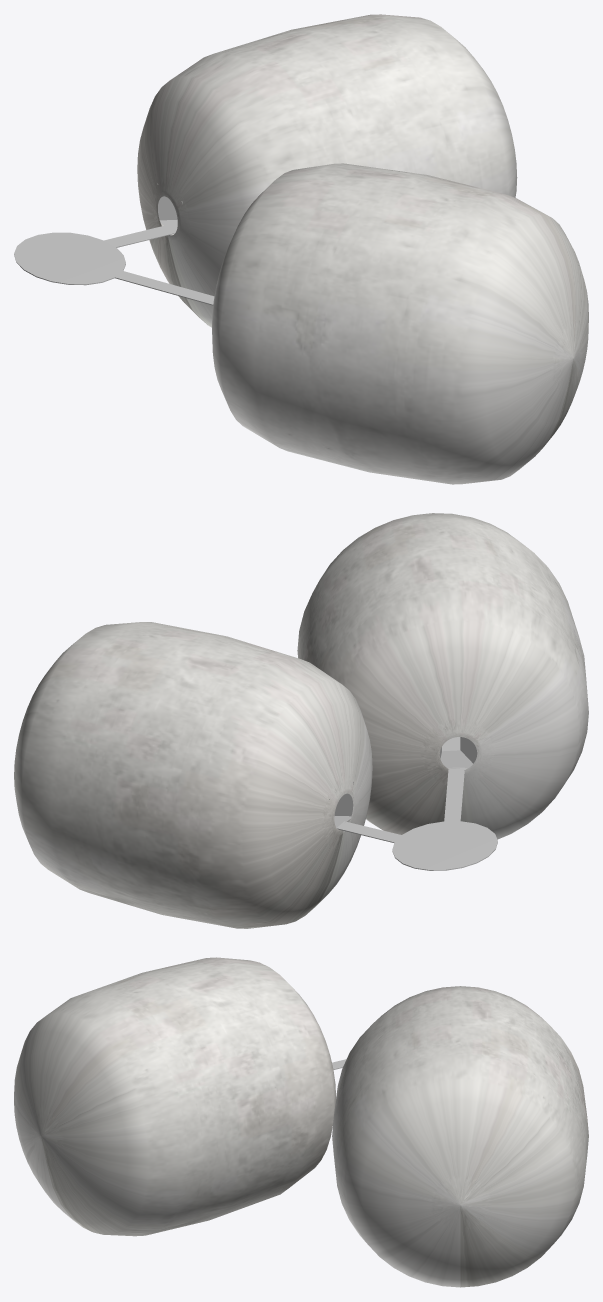
Rendered from game.dae.
The picture shows the model from 3 angles, top to bottom: view 1: azimuth 30°, elevation 25°; view 2: azimuth 150°, elevation 25°; view 3: azimuth 270°, elevation 25°; orthographic projection. The views are drawn at different scales.
Visible parts, largest first — view 1: introlevel2v2_levelBody_pPipe3; view 2: introlevel2v2_levelBody_pPipe3; view 3: introlevel2v2_levelBody_pPipe3.
Part boxes in pixels (bbox=[...]): introlevel2v2_levelBody_pPipe3: bbox=[14, 14, 588, 484]; introlevel2v2_levelBody_pPipe3: bbox=[14, 513, 588, 928]; introlevel2v2_levelBody_pPipe3: bbox=[14, 957, 588, 1287].
Bounding box in the file's own units: 429 × 238 × 532.
